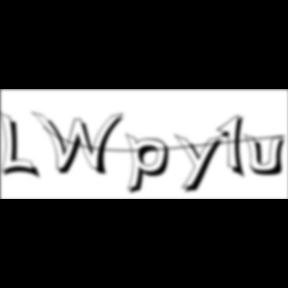1: (216, 114, 252, 182)
L: (1, 110, 44, 182)
W: (31, 110, 129, 178)
p: (126, 132, 176, 198)
y: (175, 132, 229, 196)
